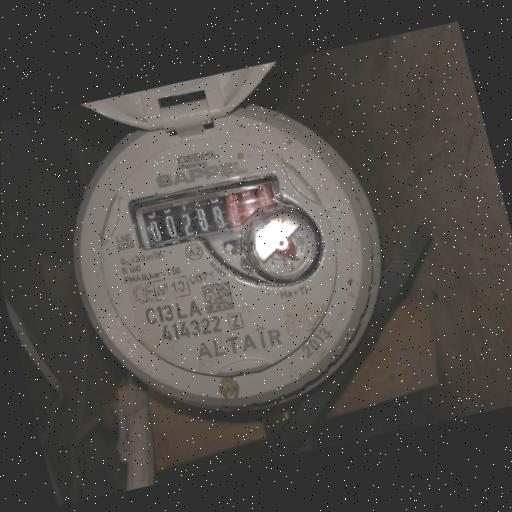0: (158, 205, 184, 243), (142, 209, 166, 246)
1: (238, 187, 262, 222)
2: (221, 192, 247, 230), (174, 202, 199, 239)
3: (253, 181, 276, 209)
8: (189, 199, 215, 237)
9: (205, 195, 230, 232)
border_water_meter_number: (135, 174, 282, 253)
